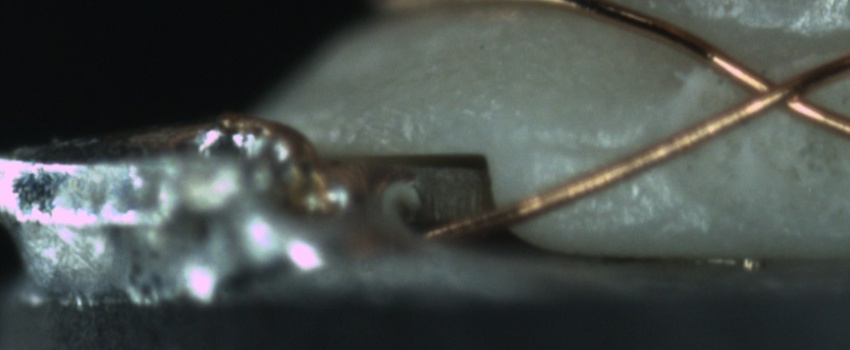CL: (706, 50, 844, 129)
DL: (526, 120, 669, 184)
TE: (190, 109, 349, 211)
